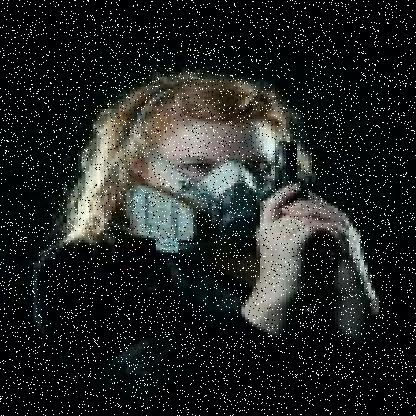pistol: (264, 139, 338, 275)
